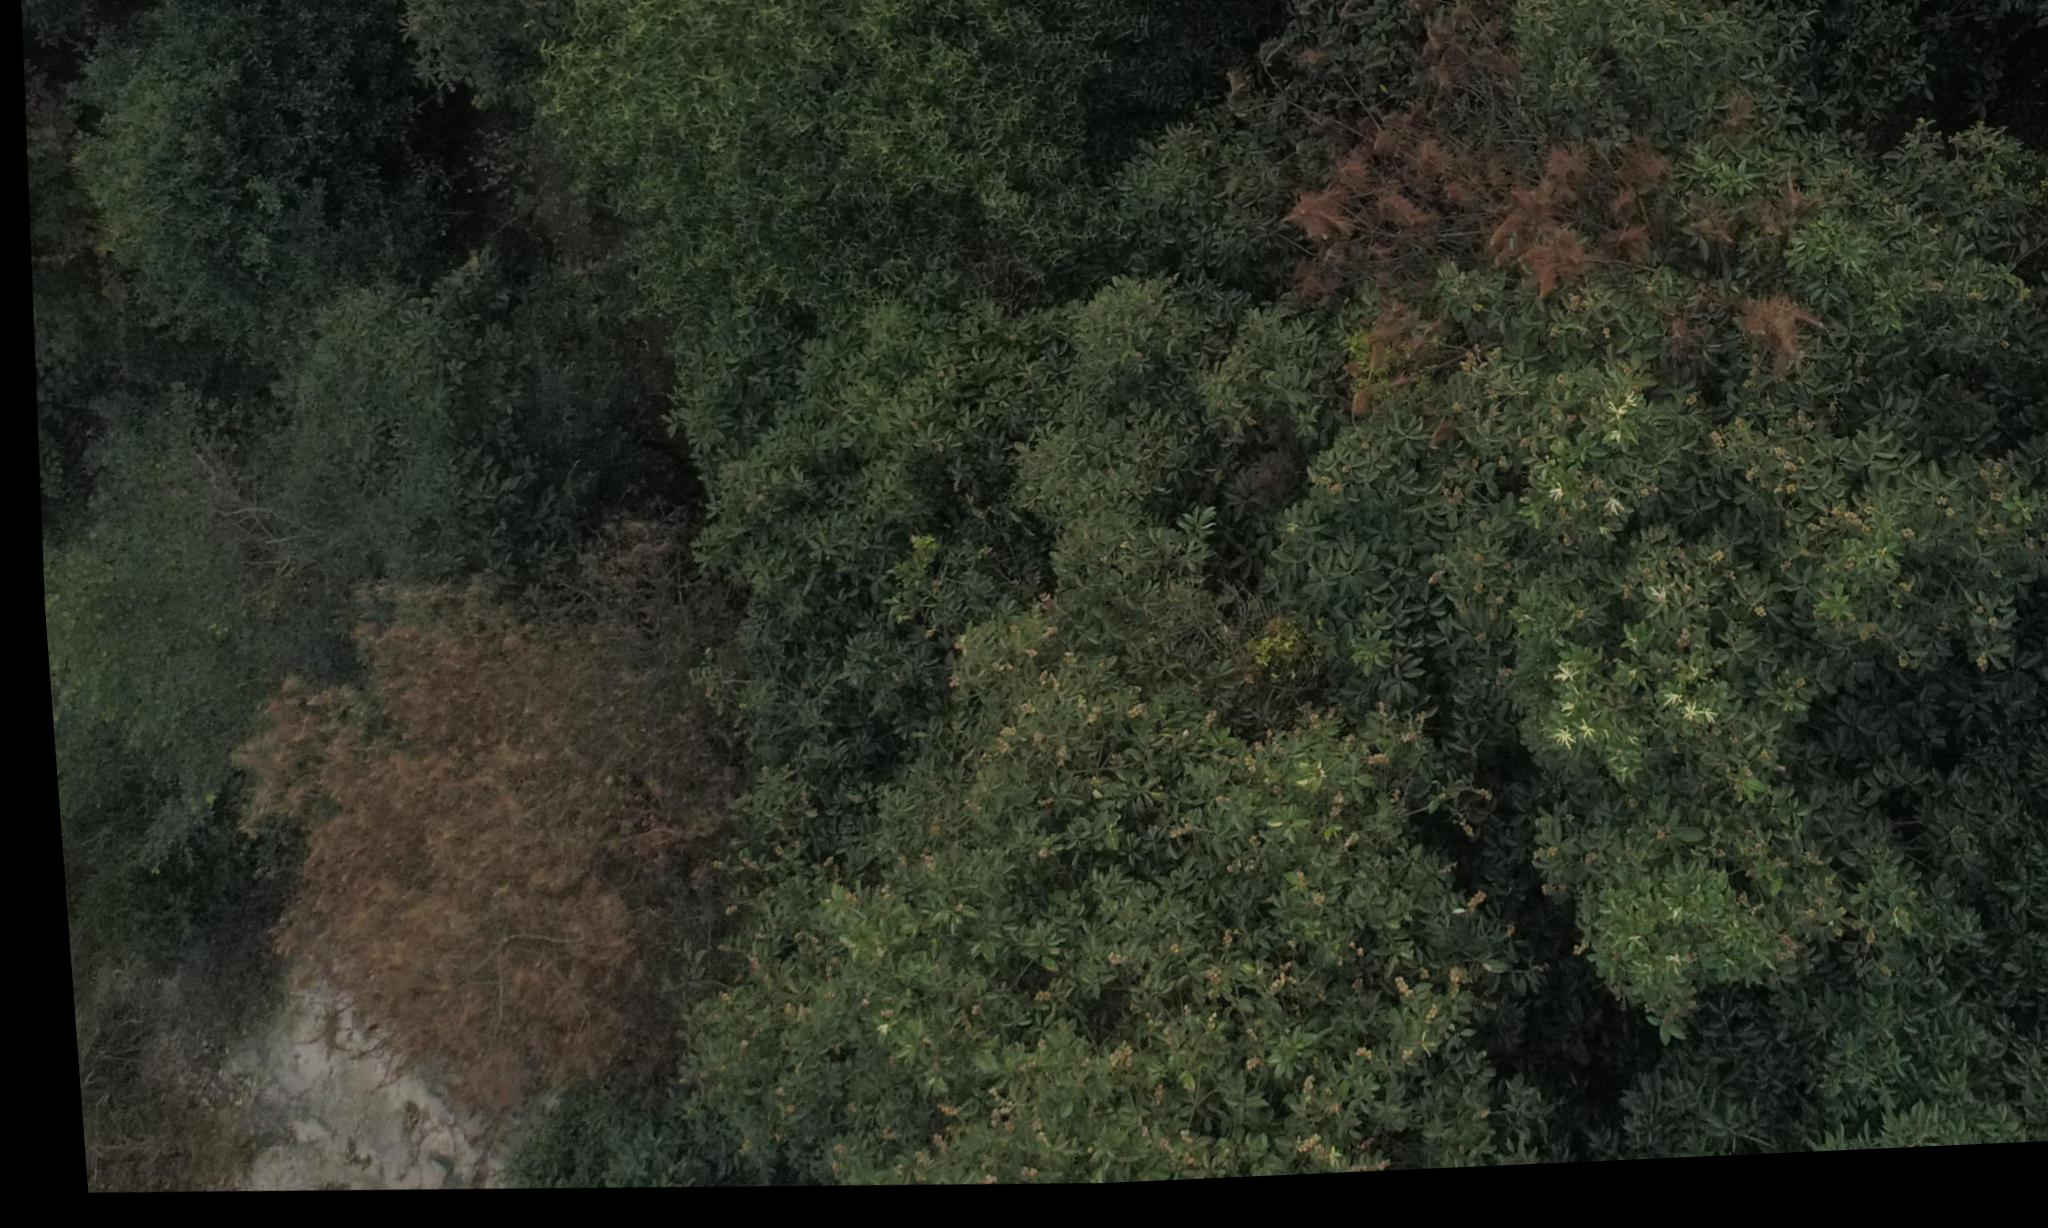heavy: (197, 528, 741, 1142), (1228, 0, 1813, 421)
